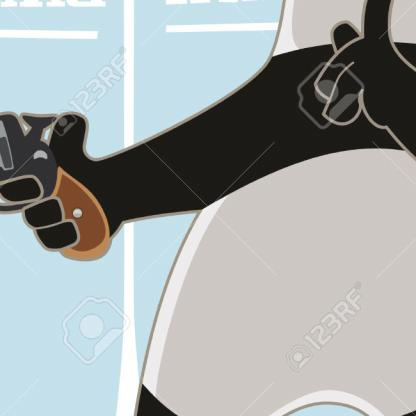gun: (0, 96, 120, 278)
